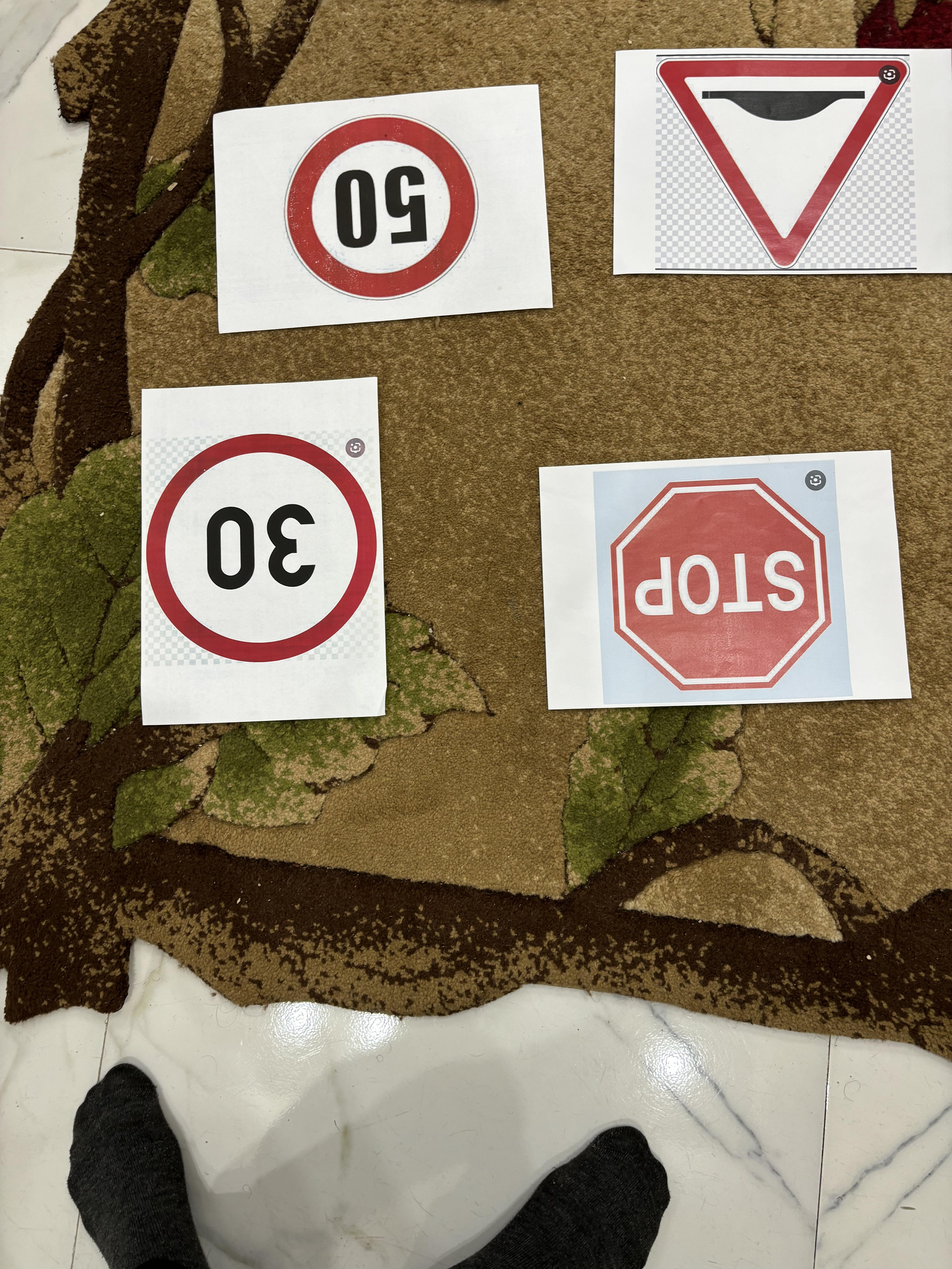30-speed: (138, 423, 379, 669)
50-Speed: (283, 109, 498, 301)
Hump: (652, 47, 918, 268)
Stop: (598, 467, 840, 698)
